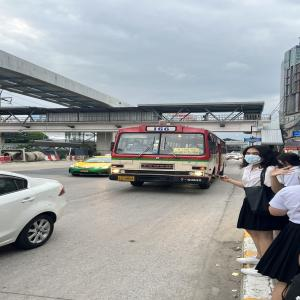BMTA-bus: (109, 123, 227, 190)
Bus Line Number: (144, 126, 176, 131)
Bus Side Number: (180, 178, 202, 182)
Destination Sign: (174, 148, 198, 155)
